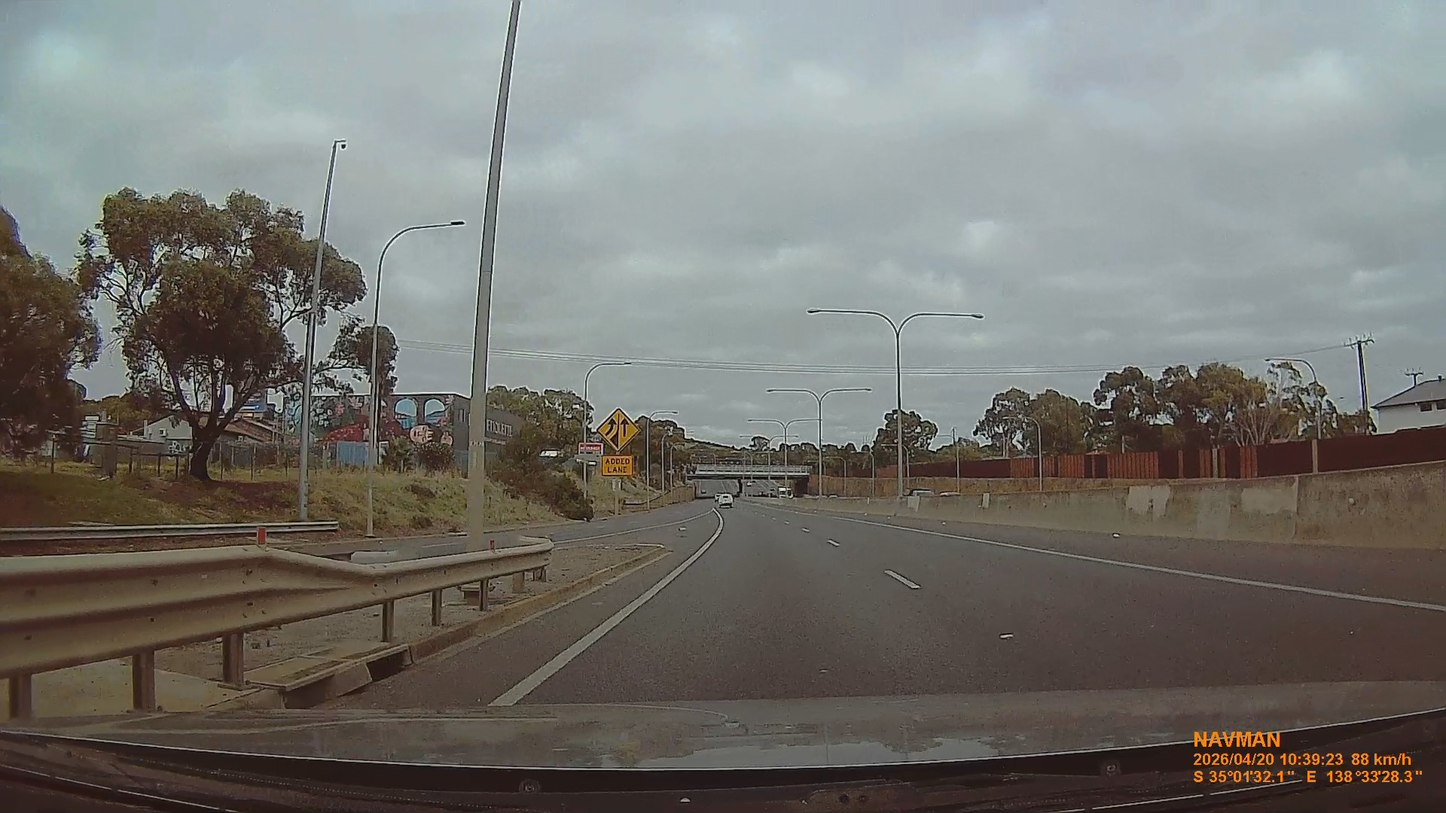fences: (786, 463, 1446, 550)
road barriers: (2, 523, 553, 711), (786, 463, 1446, 550)
